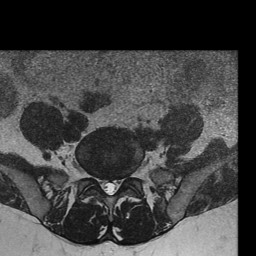CCS_stenosis: (106, 171, 113, 200)
LFS_severe_stenosis: (121, 168, 131, 188)
LLS_normal: (113, 171, 121, 195)
RFS_severe_stenosis: (90, 167, 98, 192)
RLS_normal: (98, 172, 106, 196)
